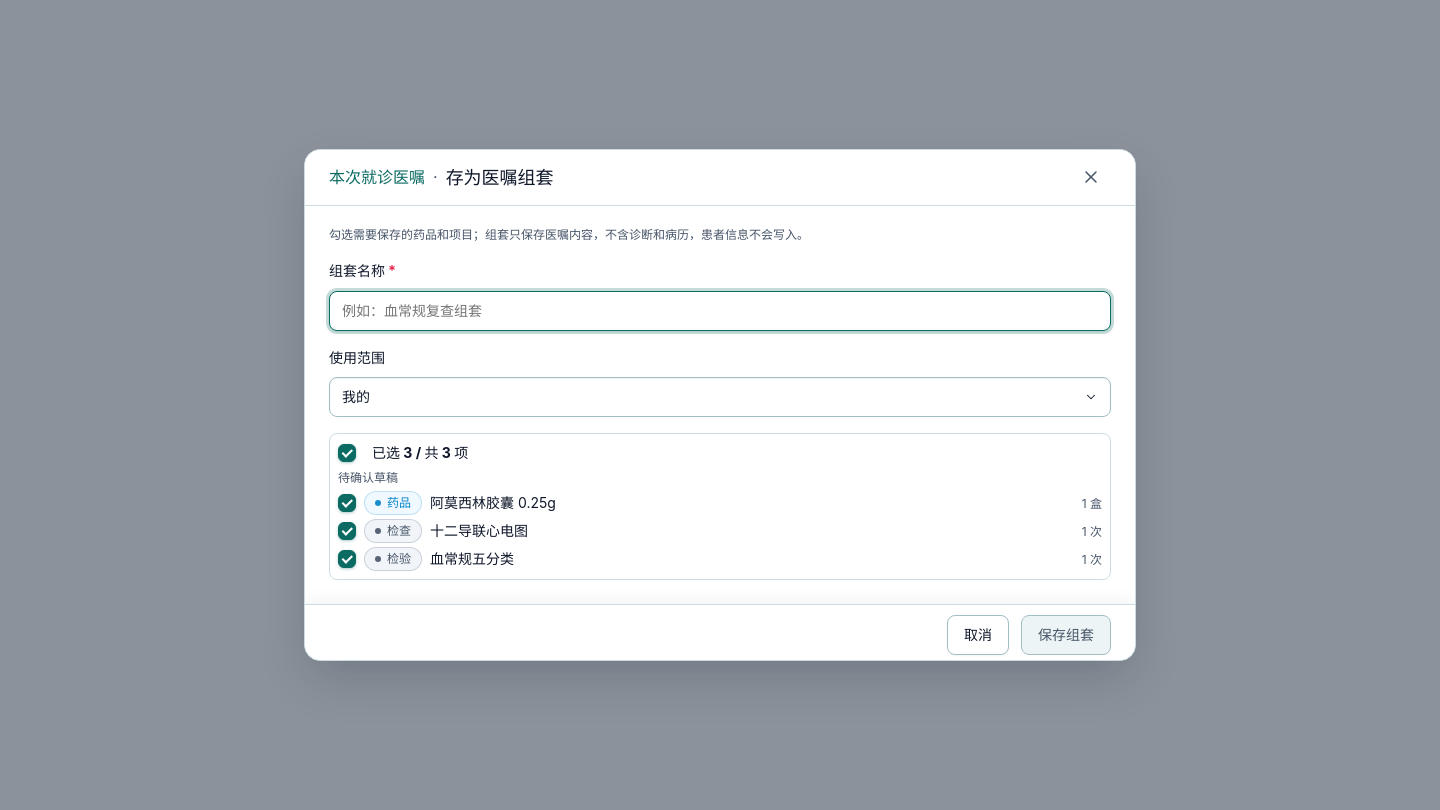
Test: SaveOrderSetDialog (医嘱区“存为组套”) › keeps the dialog open with a code-based message when the server answers PLAN_TEMPLATE_EXECUTION_DEPARTMENT_INVALID
In the field with placeholder "例如：血常规复查组套": point(720, 310) [329,290,1111,330], type "失败"
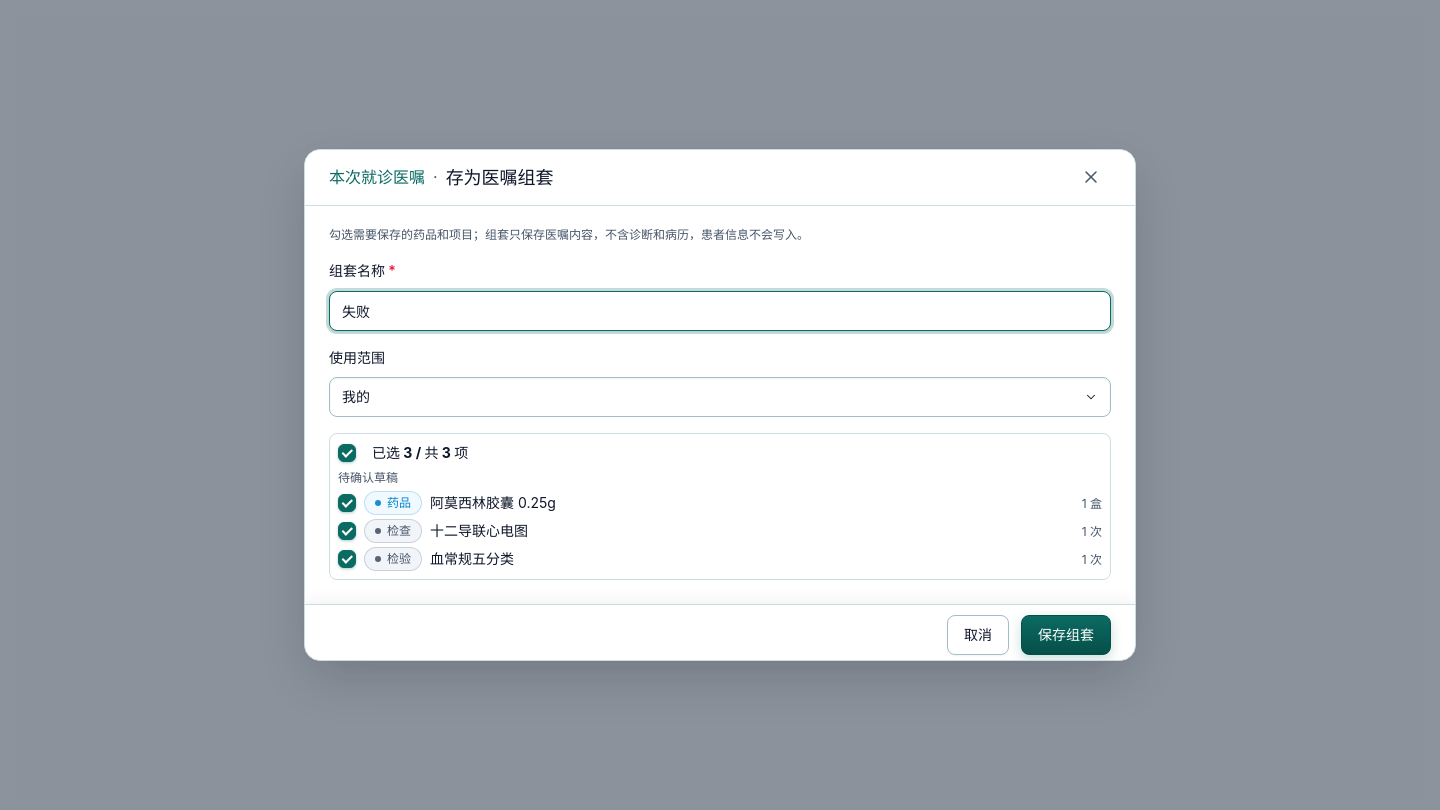
Click the button "保存组套": point(1066, 635) [1021,615,1111,655]
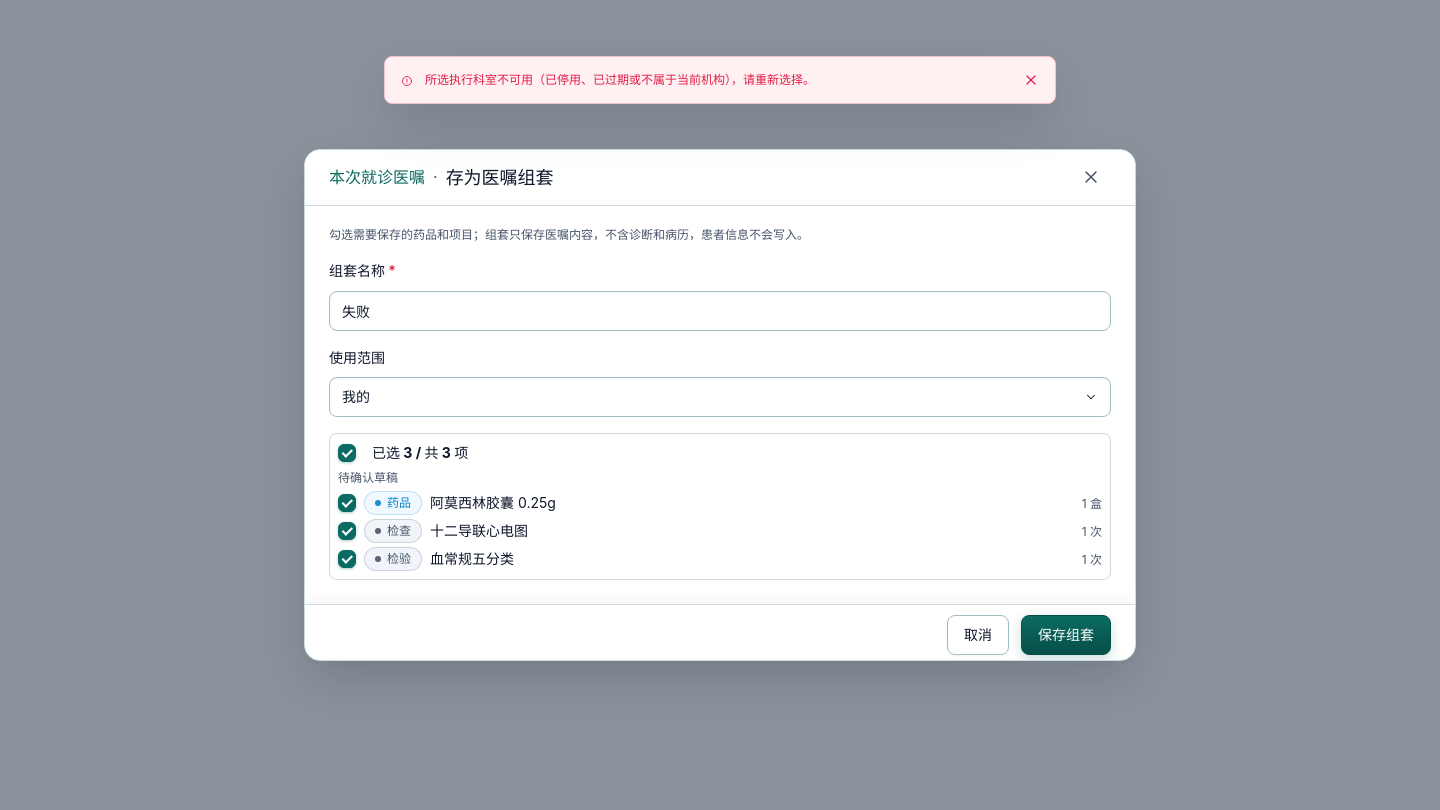
Expected: the checkbox named "选择项目 血常规五分类" is checked, [338,550,356,568]
Result: the message shows "执行科室不可用" at [425,72,815,87]
